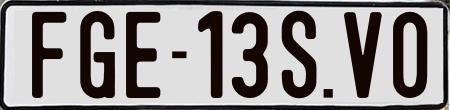0: (392, 9, 429, 101)
1: (198, 10, 228, 98)
3: (229, 9, 269, 96)
E: (125, 10, 163, 102)
F: (32, 9, 72, 96)
G: (78, 9, 115, 97)
S: (281, 8, 322, 99)
V: (344, 10, 385, 97)
